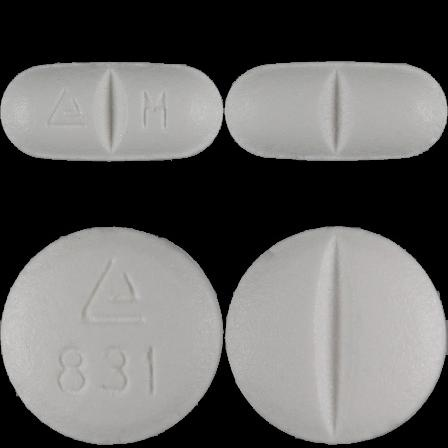60429-139: (0, 0, 224, 224)
